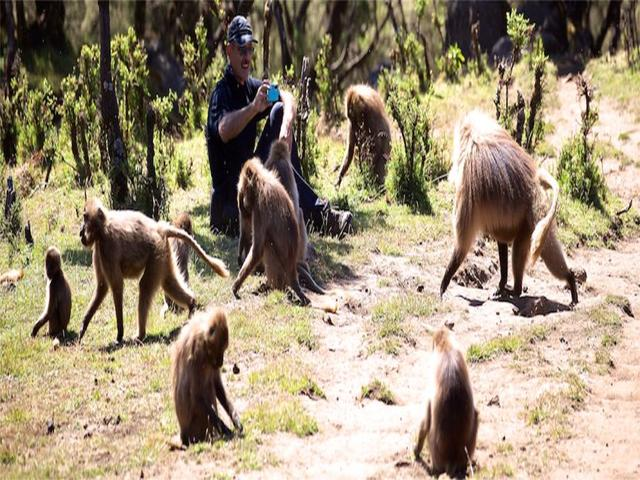monkey: (414, 70, 608, 340), (58, 180, 214, 365)
